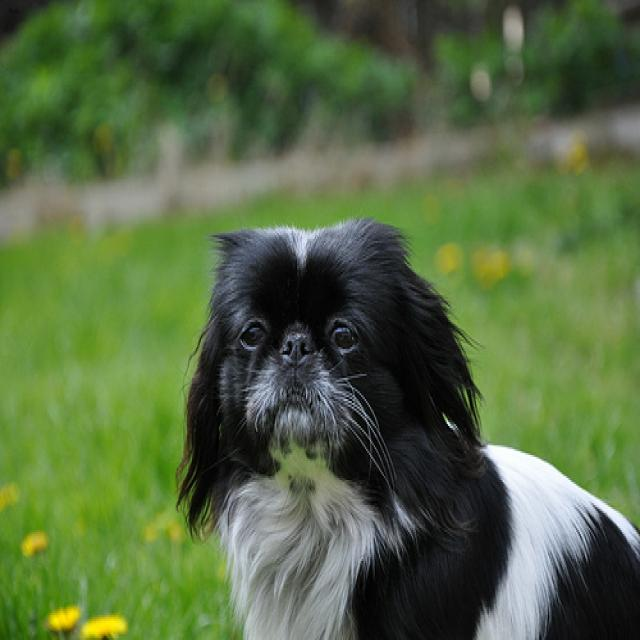dog-japanese_chin: (164, 202, 637, 636)
